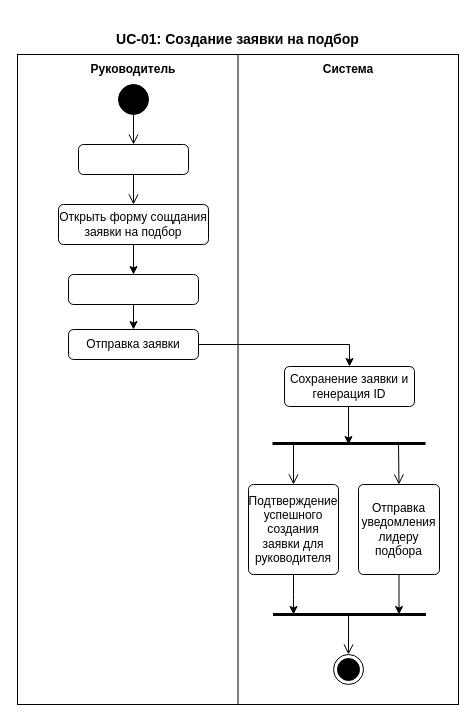
This 476x723 diagram has some shape labels left out. The shapes that lost their labels are listed below. From the top down, each one's box as (x1, y1, x2, y2) in pixels, then its label:
(78, 144, 188, 174): Войти в систему
(68, 274, 198, 304): Заполнение формы
